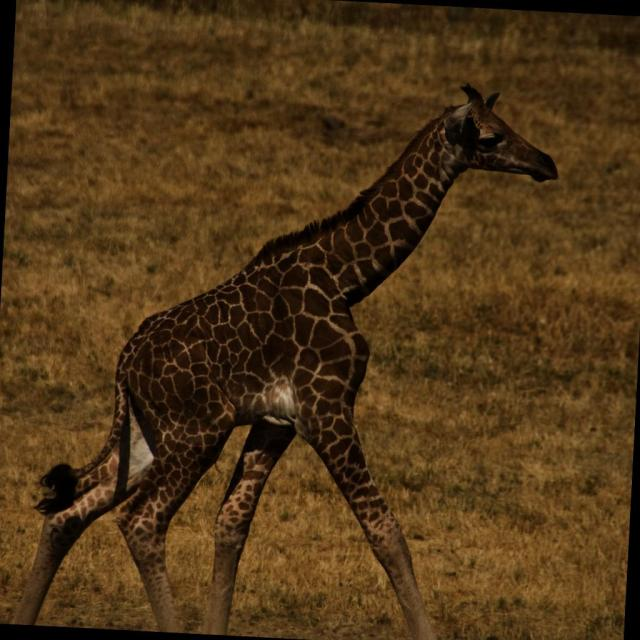Giraffe: (24, 59, 573, 627)
